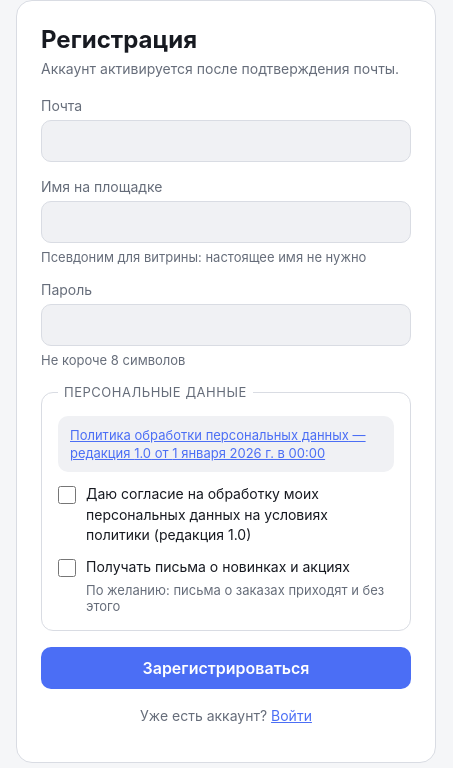
Test: отправляет редакцию политики и выбранные согласия
Expected: the link "редакция 1.0" is shown, [70, 427, 366, 461]
Type "newbie@universe.test" into the field labelled "Почта" at (226, 141), box [41, 120, 411, 162]
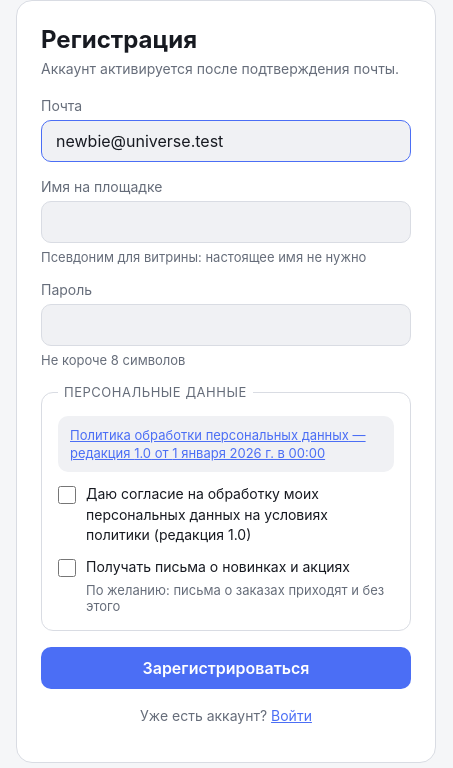
Type "Новичок" into the field labelled "Имя на площадке" at (226, 222), box [41, 201, 411, 243]
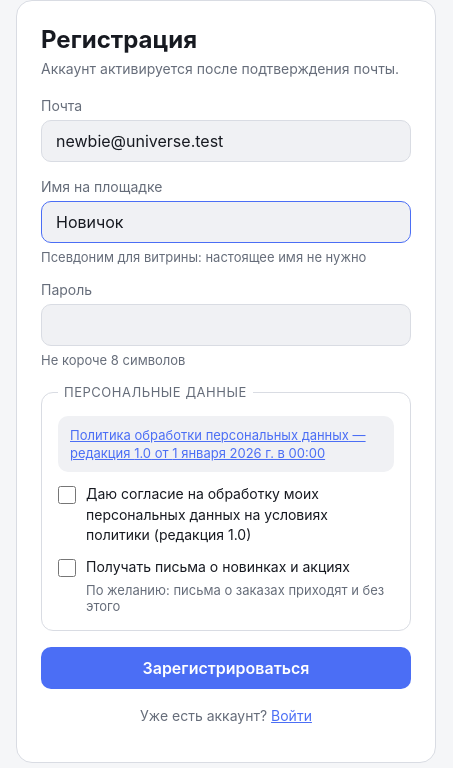
Type "password1" into the password field labelled "Пароль" at (226, 325), box [41, 304, 411, 346]
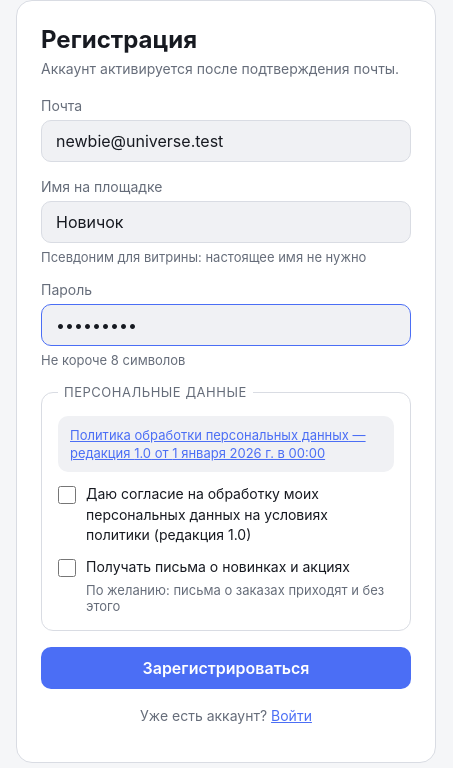
Click the checkbox labelled "Даю согласие на обработку" at (67, 495), box [58, 486, 76, 504]
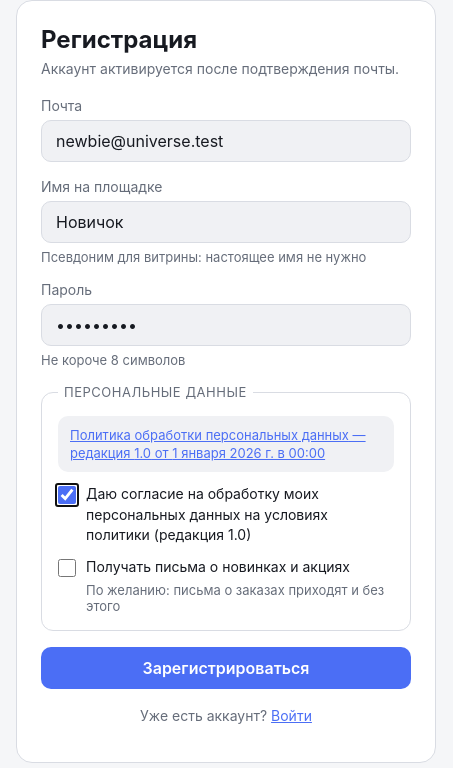
Click the checkbox labelled "Получать письма о новинках и акциях" at (67, 568), box [58, 559, 76, 577]
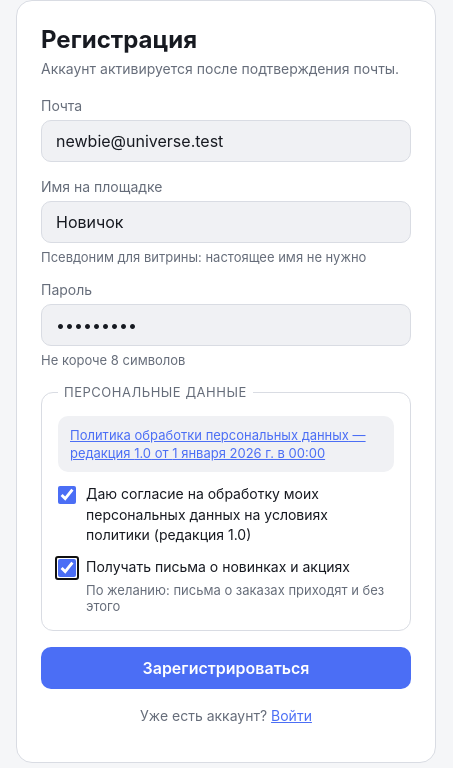
Click the button "Зарегистрироваться" at (226, 668), box [41, 647, 411, 689]
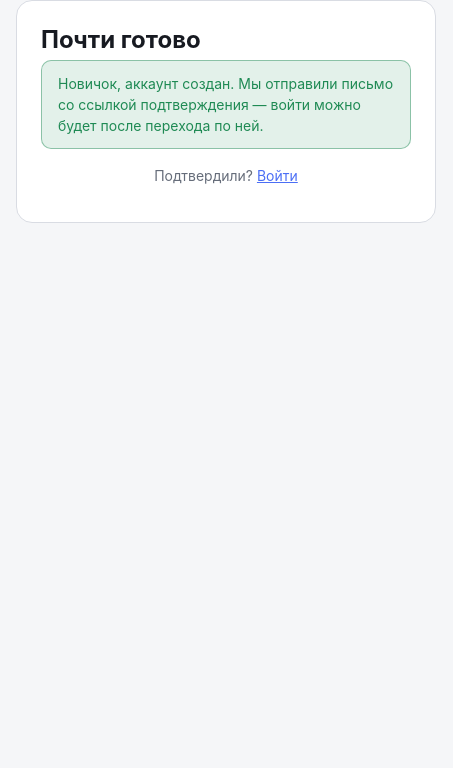
Expected: the heading "Почти готово" is shown, [41, 25, 201, 54]
